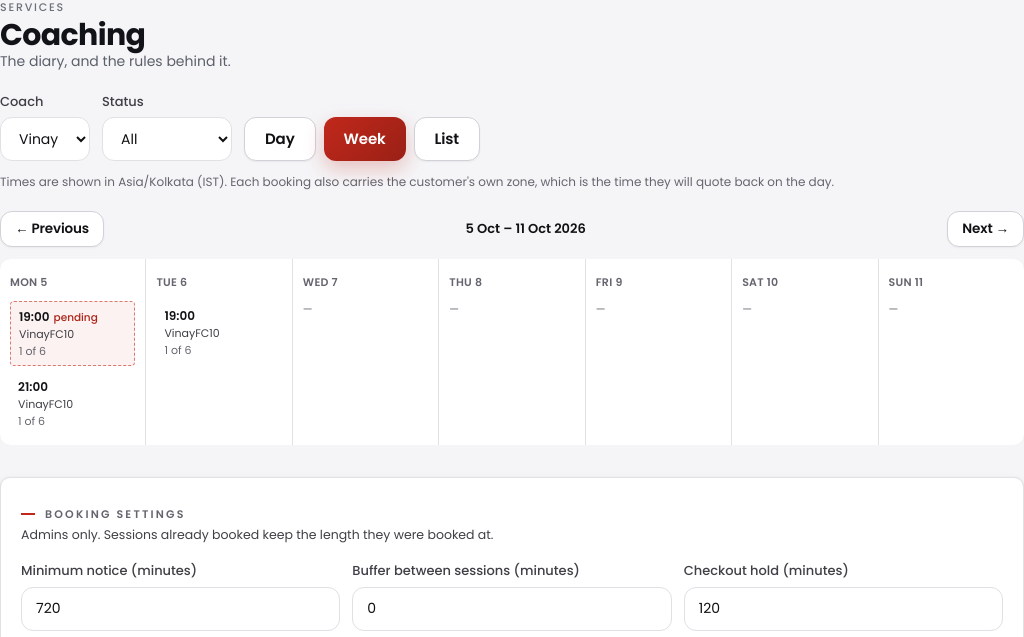
Test: Coaching diary › filters by status: pending, and cancelled including released holds
The image size is (1024, 637).
Click the button "List": {"x": 447, "y": 139} [414,117,480,161]
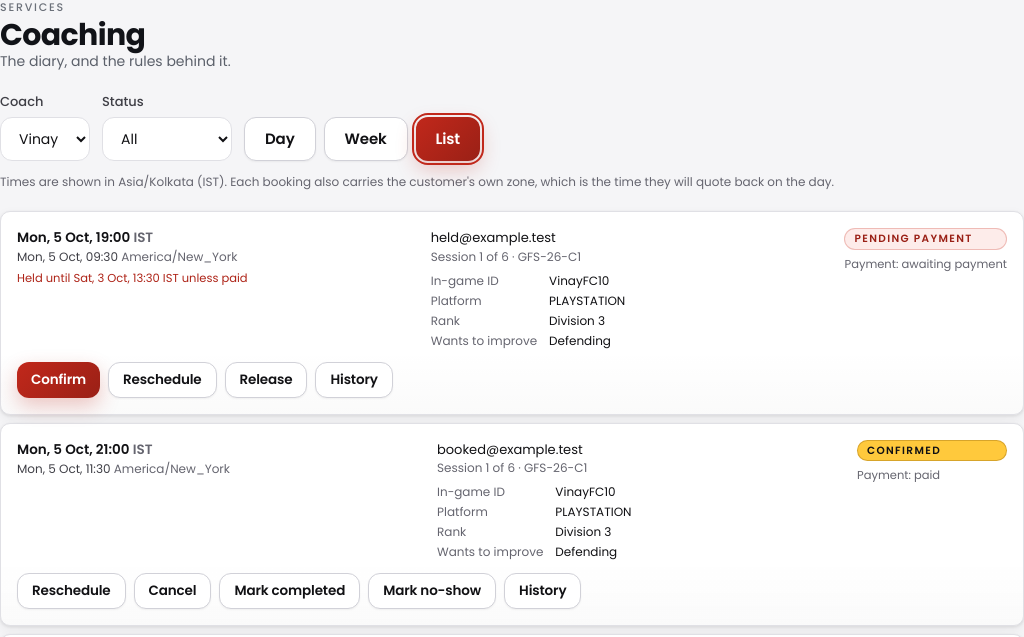
Check: the element with test id "session-held" is shown, box [0,211,1023,415]
Select "Pending" in the dropdown labelled "Status": {"x": 167, "y": 139} [102,117,232,161]
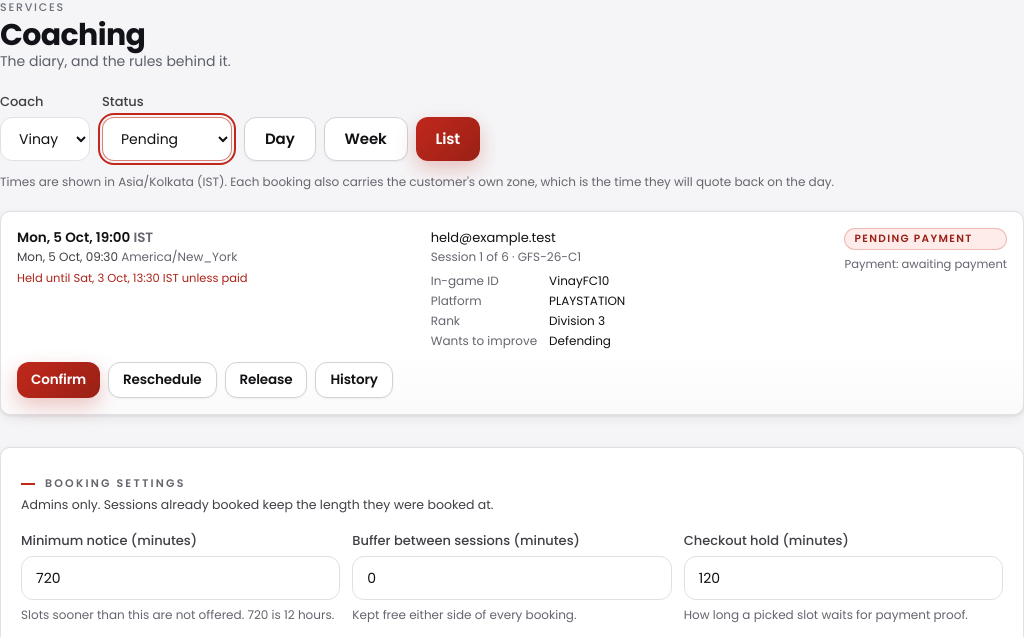
Check: the element with test id "session-held" is shown, box [0,211,1023,415]
Check: the element with test id "session-booked" is gone
Select "Cancelled" in the dropdown labelled "Status": {"x": 167, "y": 139} [102,117,232,161]
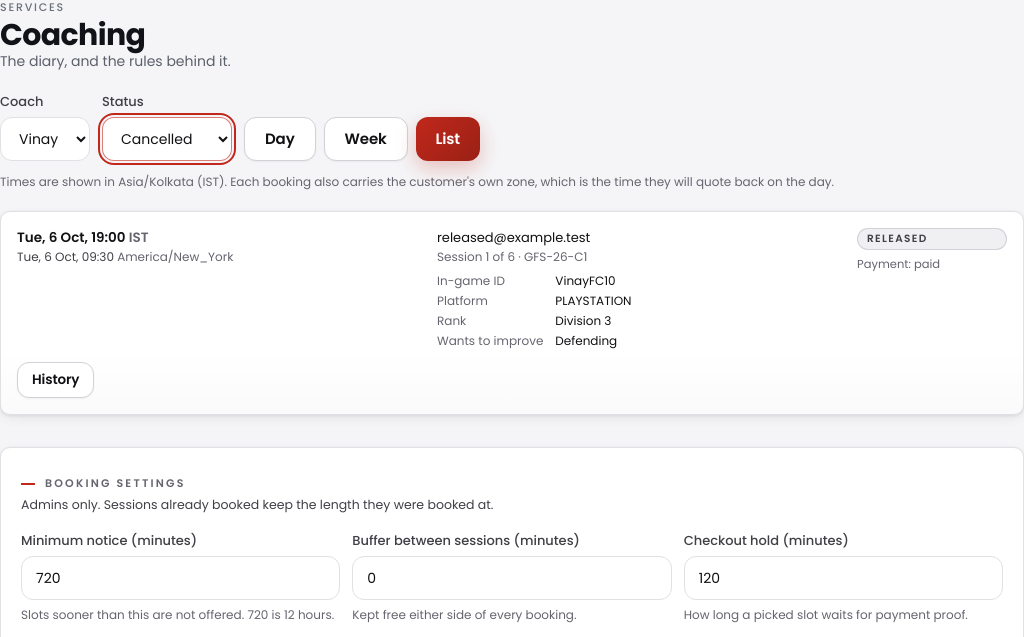
Check: the element with test id "session-released" is shown, box [0,211,1023,415]
Check: the element with test id "session-held" is gone
